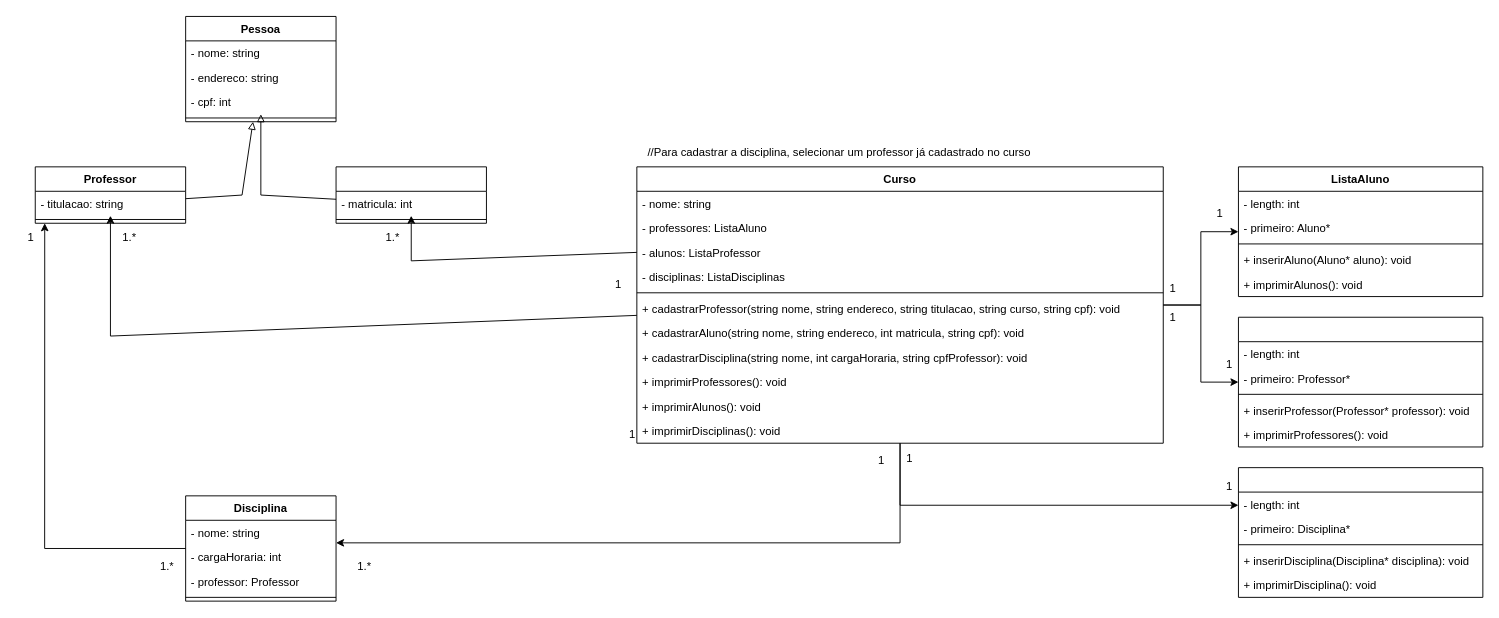
Image size: 1499x618. Some labels were removed from this diagram. The box of each missing label's shape, as (x1, y1, x2, y2) in pixels:
Aluno: (335, 166, 486, 223)
ListaDisciplina: (1238, 467, 1483, 597)
ListaProfessor: (1238, 316, 1483, 447)
